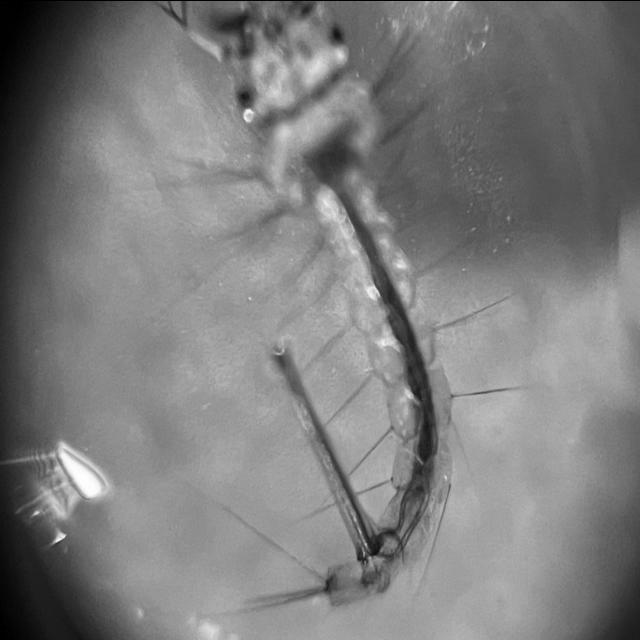larvas: (197, 4, 453, 608)
